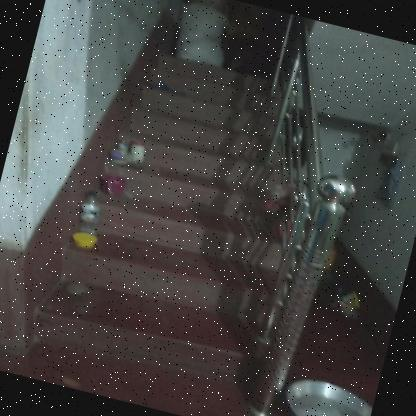stair: (0, 13, 337, 400)
